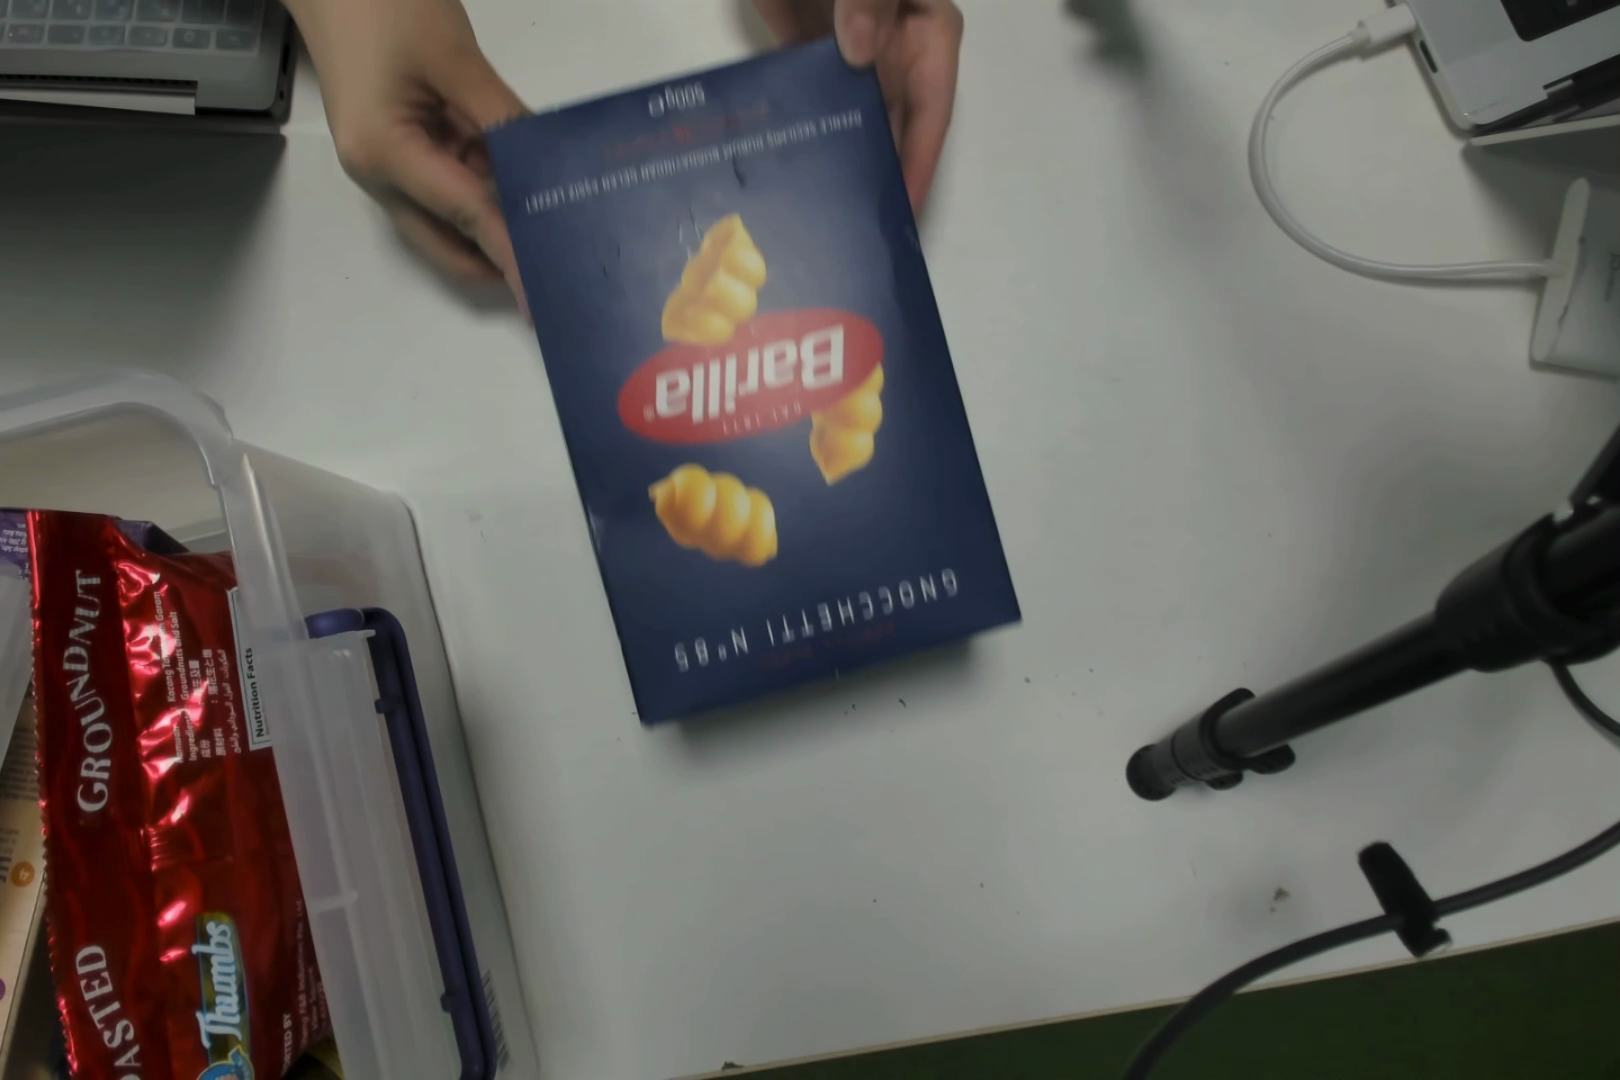Pasta_500-599g_NonHalal_NonHealthy: (573, 115, 988, 676)
